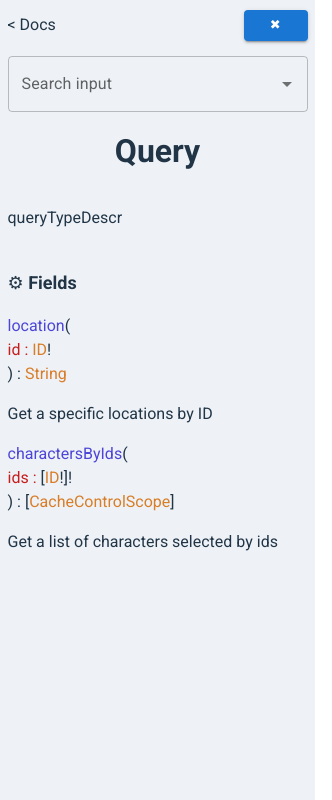
Test: SchemaContainer test › search by type should work
This screenshot has width=332, height=800.
In the dropdown: (142, 84) [16,65,268,103], type "CacheControlScope"
Then press Arrowdown, Enter
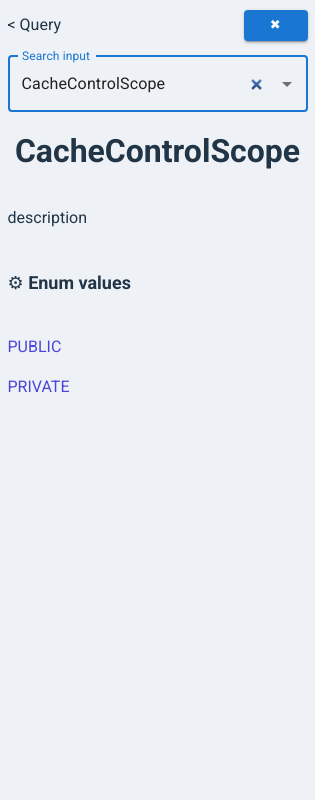
Expected: the heading "CacheControlScope" is shown, [8,127,308,175]
